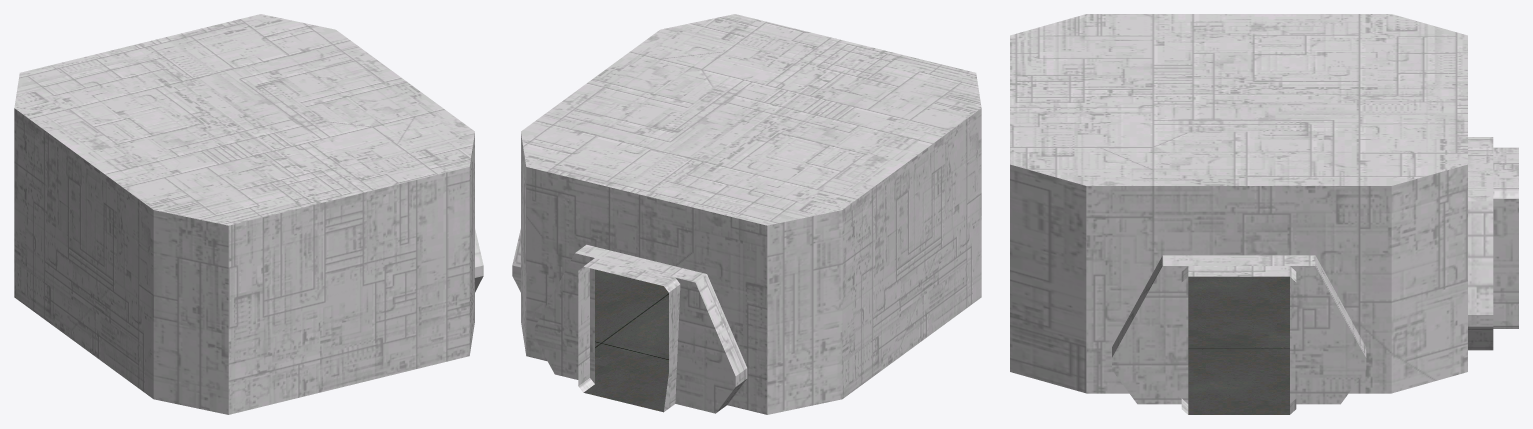
The model's file is thm_spc_star_destroyer_s01_r20_powerctrl01_mesh_r20.fbx.
3 renders of one model, left to right at view 1: azimuth 30°, elevation 25°; view 2: azimuth 150°, elevation 25°; view 3: azimuth 270°, elevation 25°, orthographic. The views are drawn at different scales.
Visible parts, largest first — view 1: mesh_node; view 2: mesh_node; view 3: mesh_node.
Part boxes in pixels (x1,y1,x2,y2): mesh_node: (14, 14, 483, 414); mesh_node: (512, 14, 981, 414); mesh_node: (1010, 14, 1518, 414).
Bounding box in the file's own units: 9 × 4.5 × 10.
2 materials, 2 textured.
